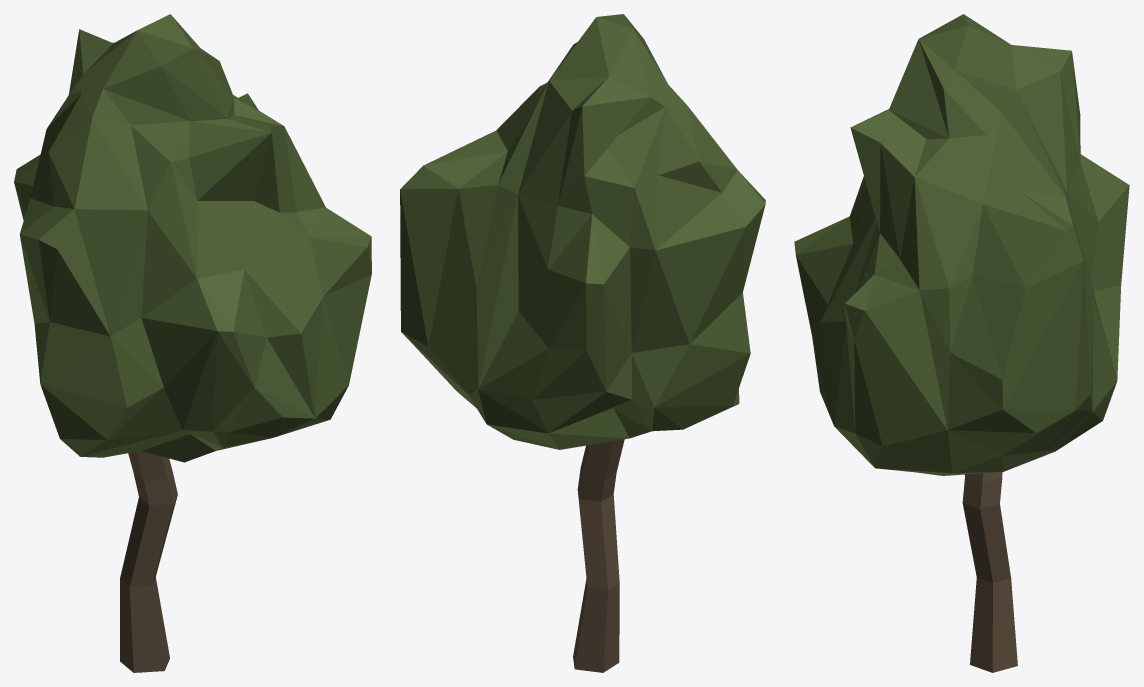
The model's file is Tree_066.fbx.
3 views of the same model, side by side, from view 1: azimuth 30°, elevation 25°; view 2: azimuth 150°, elevation 25°; view 3: azimuth 270°, elevation 25° (orthographic). The views are drawn at different scales.
Visible parts, largest first — view 1: tree_066; view 2: tree_066; view 3: tree_066.
Part boxes in pixels (x1,y1,x2,y2): tree_066: (14,14,371,672); tree_066: (400,14,765,672); tree_066: (794,14,1129,672).
Bounding box in the file's own units: 0.638 × 1.23 × 0.5835.
Materials: 1 (1 with a texture image).
